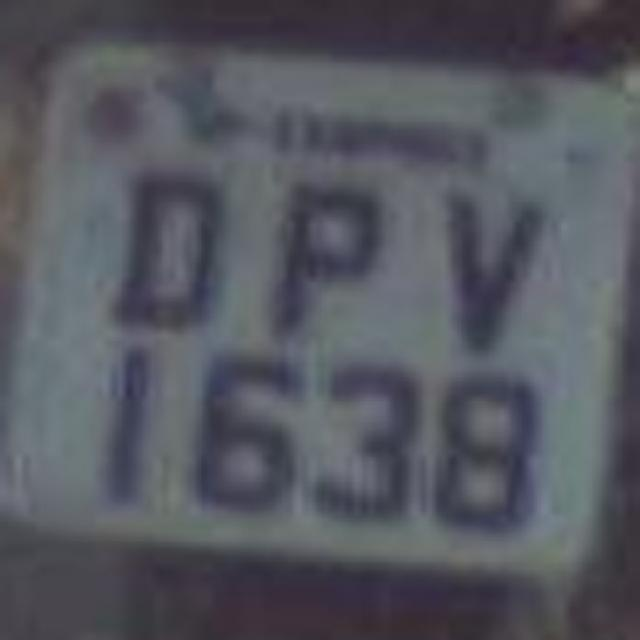1: (92, 348, 172, 508)
3: (292, 348, 448, 528)
6: (171, 344, 324, 524)
8: (429, 345, 556, 540)
D: (104, 168, 236, 340)
P: (252, 168, 388, 348)
